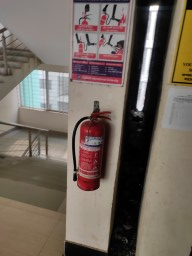fire_extinguisher: (75, 106, 144, 160)
